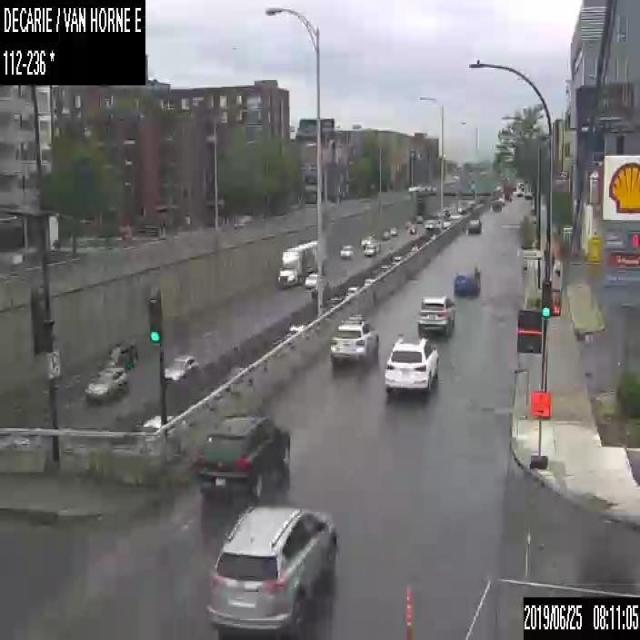construction: (528, 388, 551, 469), (402, 585, 412, 639)
vehicle: (209, 502, 338, 634), (198, 413, 289, 501), (382, 336, 438, 392), (327, 312, 379, 365), (276, 237, 318, 287), (83, 365, 126, 401), (418, 296, 456, 336), (164, 351, 198, 381), (104, 341, 138, 368), (454, 264, 480, 294), (140, 414, 172, 432), (464, 216, 481, 233), (364, 240, 380, 255), (340, 242, 353, 258), (304, 272, 318, 286), (360, 232, 375, 245), (424, 218, 435, 228), (407, 223, 417, 233), (380, 230, 390, 239), (415, 215, 422, 222), (405, 220, 412, 227), (390, 226, 396, 234)
